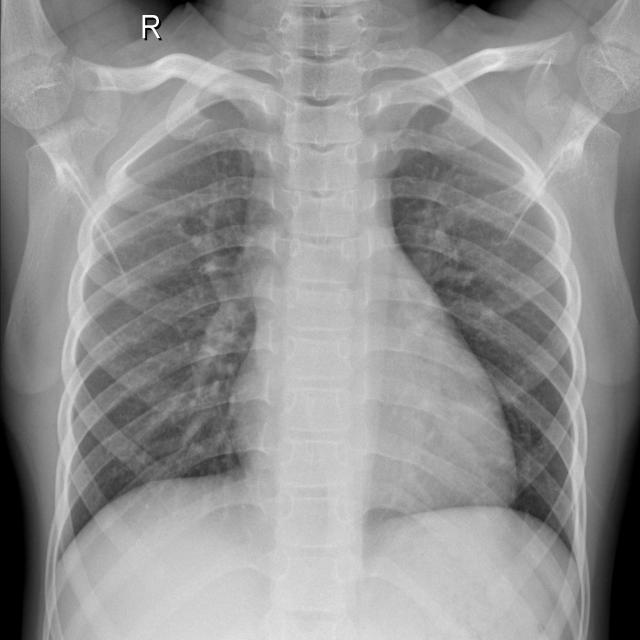no-pneumonia: (51, 94, 273, 572), (365, 79, 586, 550)
